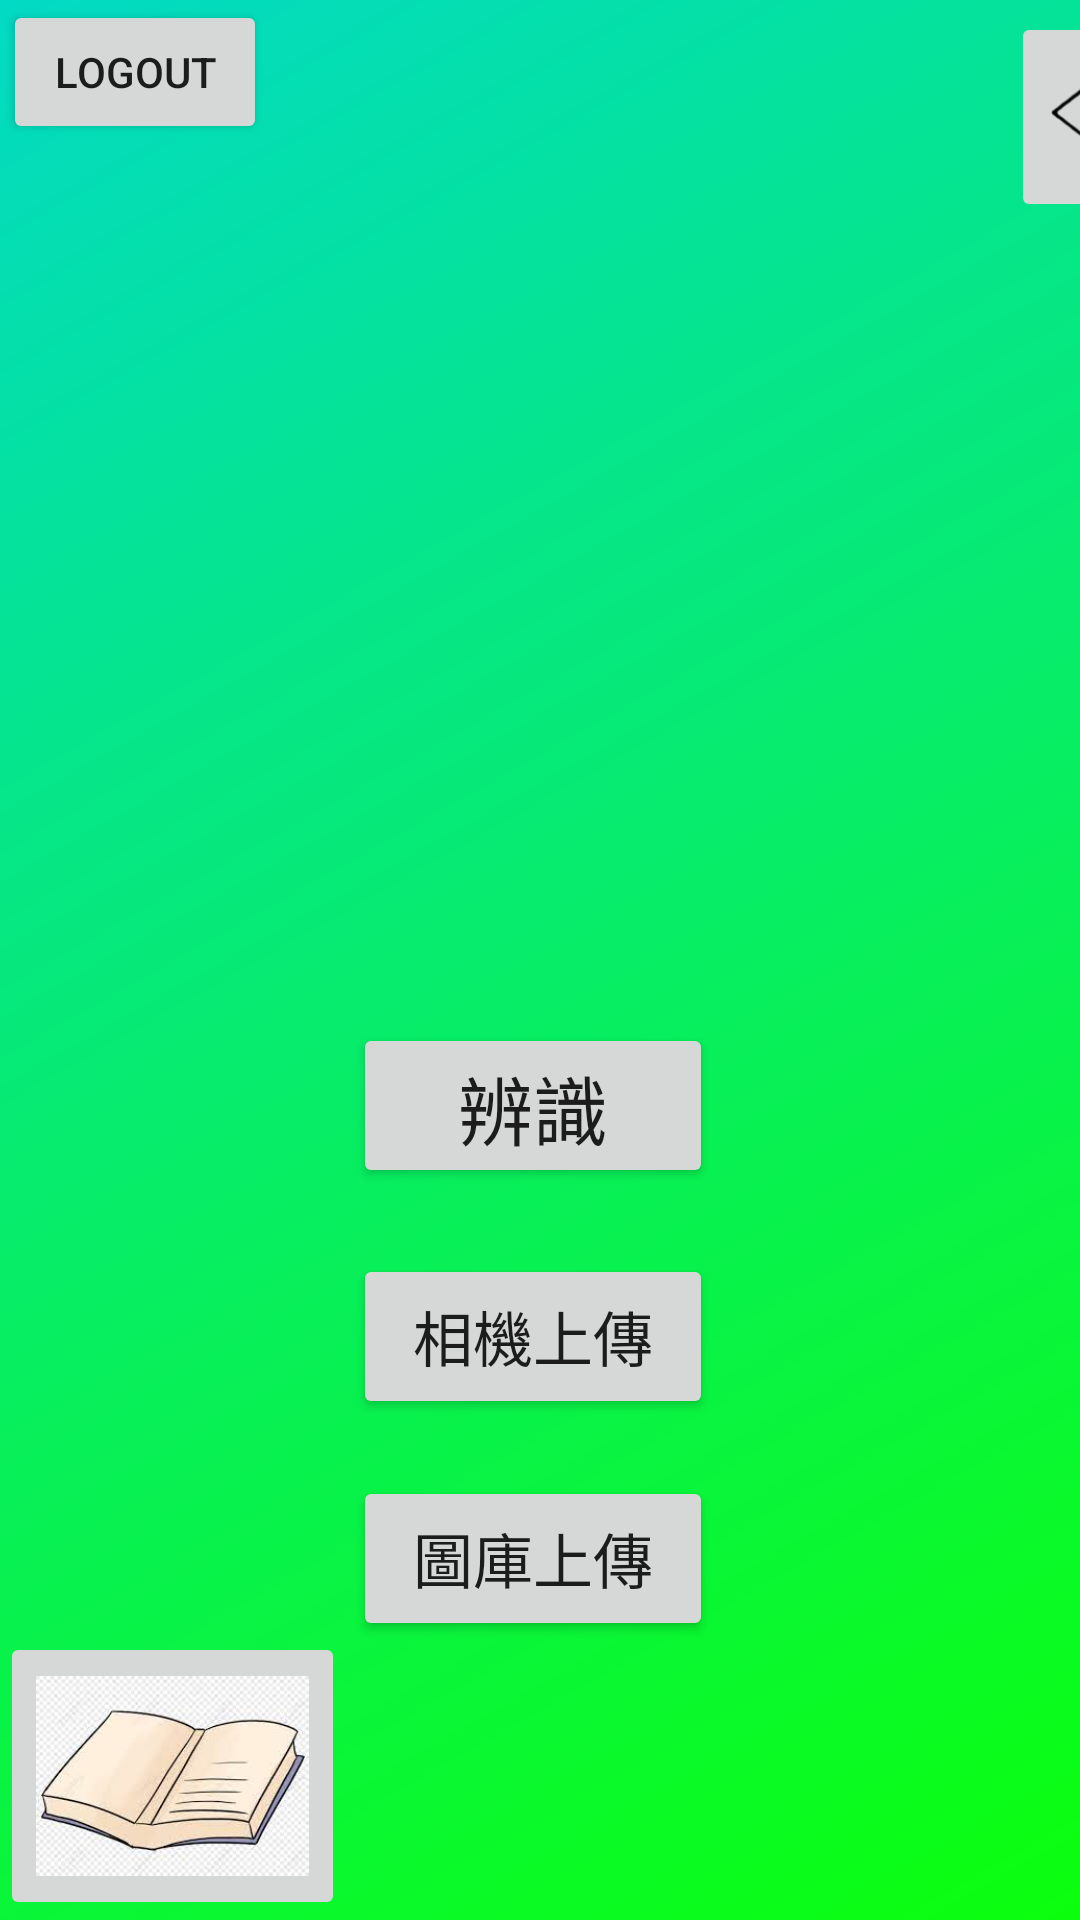

Screen size 1080px x 1920px. Icon name, then its center in pixels as [x,y]:
book: [172,1776]
